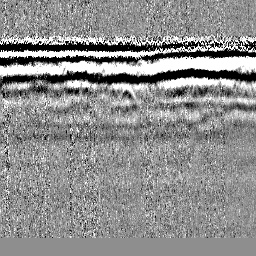cavity: (118, 84, 137, 104)
